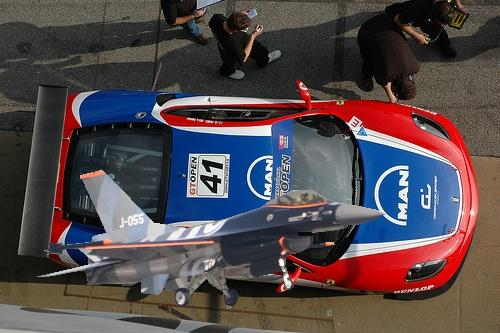tampered: (38, 171, 385, 306)
